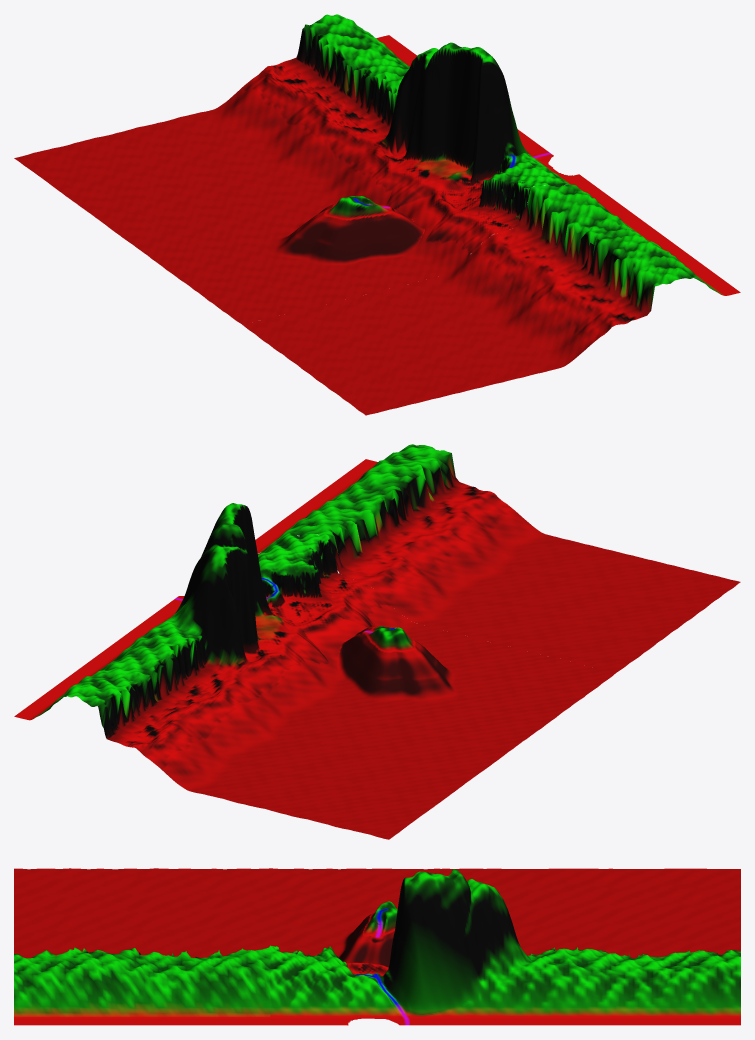
File: headlands.glb
3 renders of one model, top to bottom at view 1: azimuth 30°, elevation 25°; view 2: azimuth 150°, elevation 25°; view 3: azimuth 270°, elevation 25°, orthographic. The views are drawn at different scales.
Parts seen in each view (by area): view 1: South_0_1, South_0_2, South_0_0, South_1_1, South_1_2, South_1_0, North_0_9, Coast_1_9, North_0_7, North_1_8, North_0_6, North_1_7 (+38 smaller); view 2: South_0_1, South_0_0, South_0_2, South_1_1, South_1_0, South_1_2, North_0_9, North_1_9, North_0_7, North_1_8, North_0_6, North_0_8 (+41 smaller); view 3: South_0_2, South_0_0, South_1_2, South_1_0, North_0_10, North_1_10, North_0_11, Coast_1_10, Coast_0_10, North_1_11, South_0_1, North_0_1 (+49 smaller).
Part boxes in pixels (x1,y1,x2,y2): South_0_1: (367, 236, 563, 346); South_0_2: (492, 184, 688, 288); South_0_0: (242, 294, 438, 377); South_1_1: (439, 289, 615, 384); South_1_2: (564, 234, 740, 324); South_1_0: (314, 347, 490, 415); North_0_9: (296, 15, 398, 110); Coast_1_9: (437, 47, 486, 172); North_0_7: (233, 69, 335, 142); North_1_8: (336, 61, 418, 157); North_0_6: (202, 96, 304, 164); North_1_7: (305, 121, 387, 183); South_0_1: (367, 531, 563, 642); South_0_0: (492, 589, 688, 672); South_0_2: (255, 477, 438, 583); South_1_1: (439, 491, 615, 589); South_1_0: (564, 551, 740, 619); South_1_2: (314, 444, 490, 531); North_0_9: (77, 647, 179, 739); North_1_9: (150, 548, 231, 686); North_0_7: (139, 697, 242, 777); North_1_8: (180, 570, 262, 697); North_0_6: (170, 718, 273, 793); North_0_8: (108, 680, 209, 750); South_0_2: (121, 946, 270, 1025); South_0_0: (121, 868, 270, 932); South_1_2: (14, 947, 121, 1025); South_1_0: (14, 868, 121, 931); North_0_10: (592, 956, 740, 998); North_1_10: (484, 924, 591, 997); North_0_11: (592, 992, 740, 1025); Coast_1_10: (410, 875, 447, 984); Coast_0_10: (447, 887, 484, 997); North_1_11: (484, 993, 591, 1025); South_0_1: (121, 931, 270, 957); North_0_1: (592, 884, 740, 900).
Size of the model in its own units: 288 by 109 by 468.
